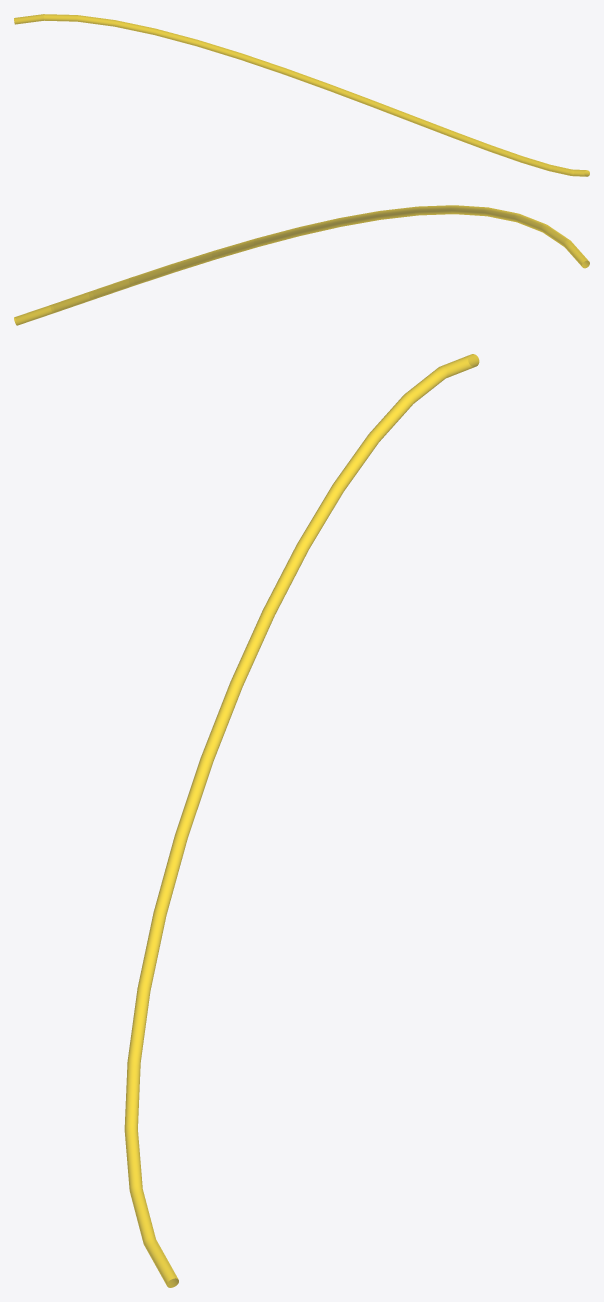
Rendered from Event_17758602_track_58.fbx.
The picture shows the model from 3 angles, top to bottom: view 1: azimuth 30°, elevation 25°; view 2: azimuth 150°, elevation 25°; view 3: azimuth 270°, elevation 25°; orthographic projection. The views are drawn at different scales.
Parts seen in each view (by area): view 1: Model; view 2: Model; view 3: Model.
Part boxes in pixels (x1,y1,x2,y2): Model: (14,14,589,176); Model: (14,205,589,325); Model: (124,354,479,1287).
Bounding box in the file's own units: 3.47 × 1.51 × 1.06.
